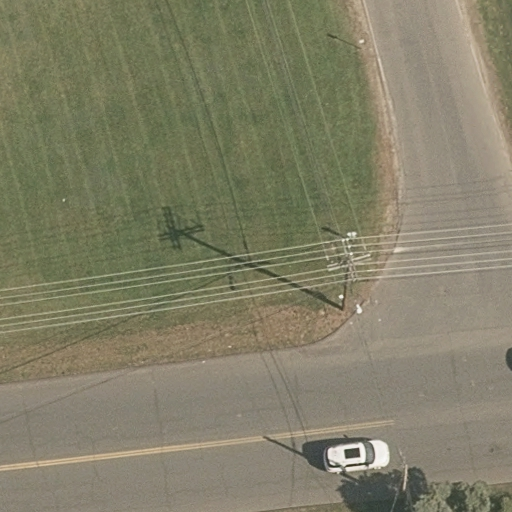DT: (321, 228, 376, 318)
